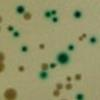Blue_green: (55, 50, 71, 65), (72, 9, 83, 20), (16, 5, 26, 15), (89, 34, 97, 46), (74, 92, 86, 100), (67, 43, 76, 53), (48, 61, 58, 70), (38, 72, 48, 80), (44, 10, 52, 19), (20, 45, 28, 54), (12, 31, 20, 39), (50, 8, 58, 16), (52, 16, 60, 24), (8, 24, 15, 32)
brown: (3, 86, 19, 100), (74, 72, 84, 82), (38, 40, 46, 52), (23, 12, 32, 22), (15, 63, 24, 73), (55, 81, 64, 91), (40, 62, 49, 71), (64, 84, 74, 92), (0, 51, 6, 63), (0, 64, 6, 75), (53, 90, 61, 98), (76, 37, 85, 42), (0, 15, 4, 26), (81, 33, 87, 40), (65, 76, 72, 82)
